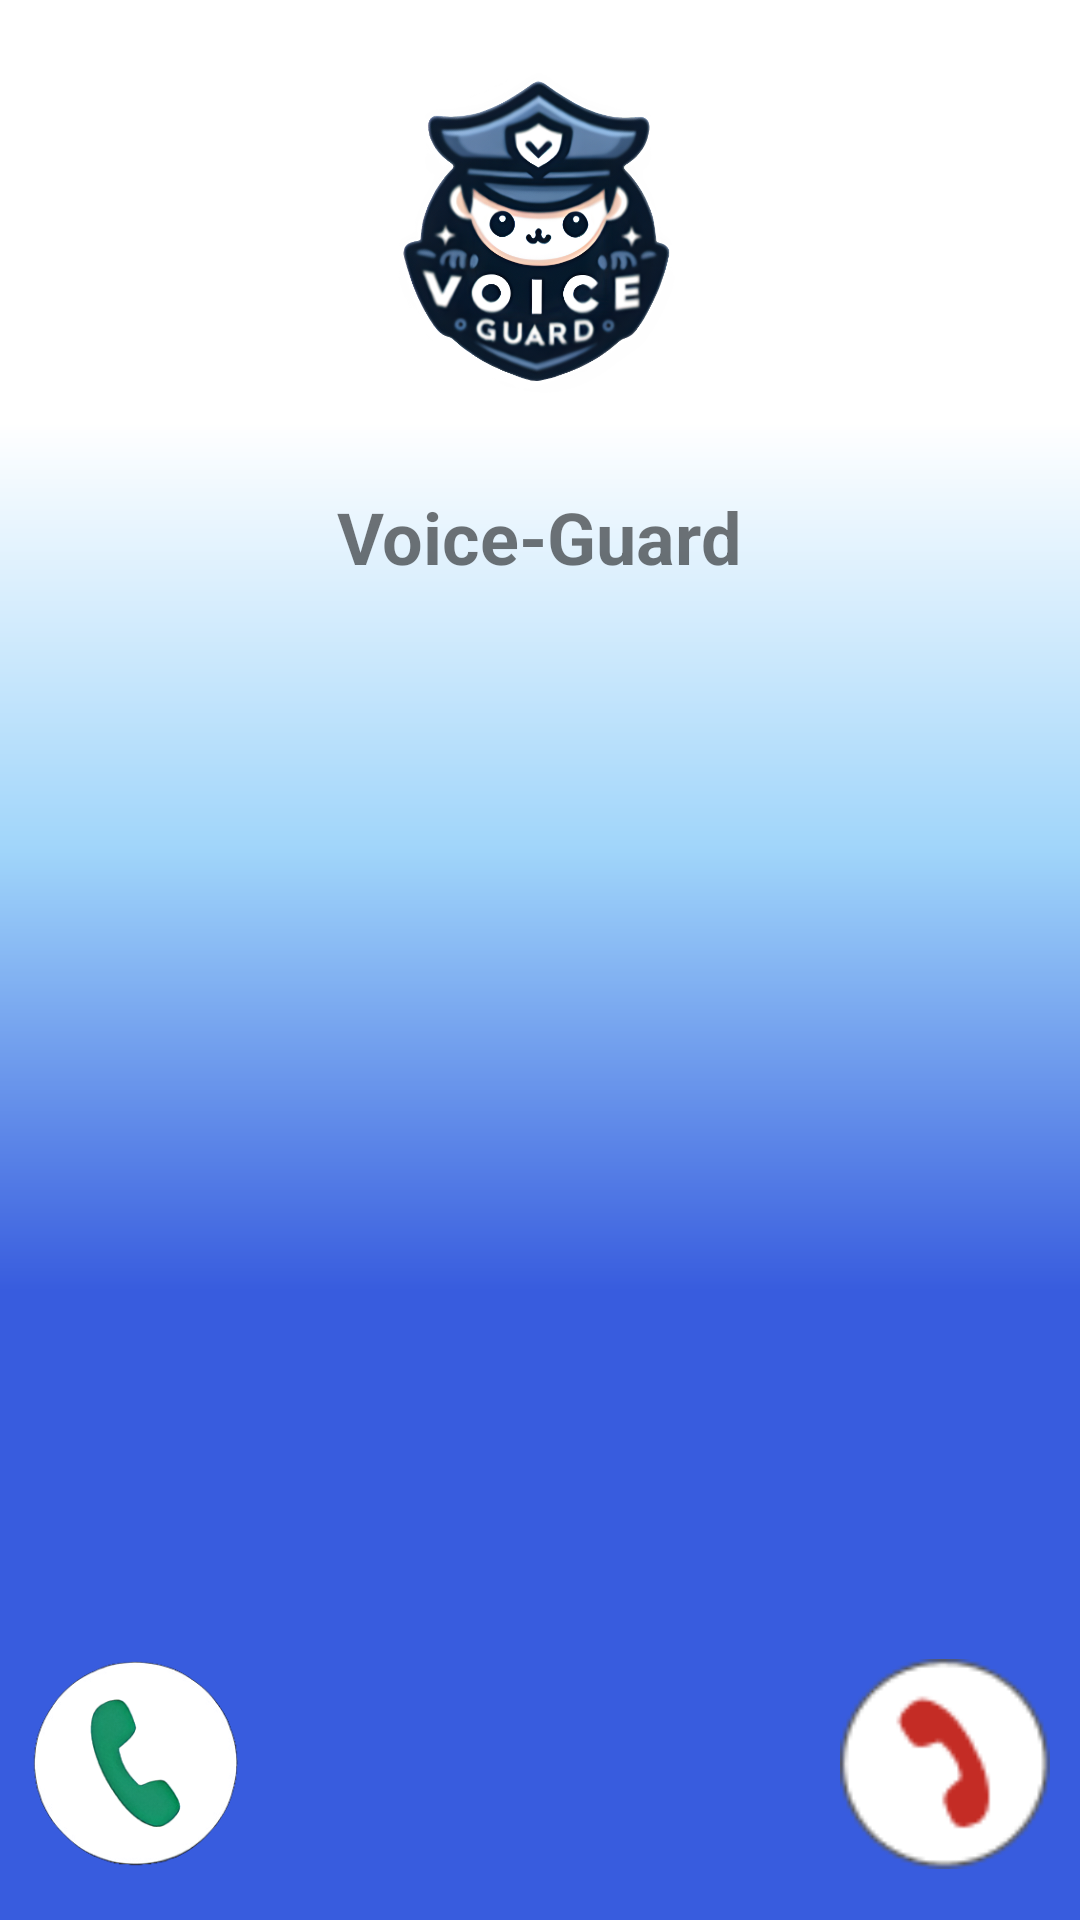

Where to tap for icons on this 1080x1920 app screen, as point (x, y):
통화 받기: point (136, 1764)
통화 종료: point (945, 1764)
